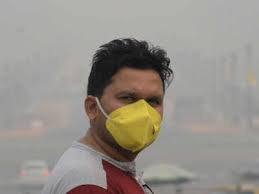mask: (78, 34, 182, 154)
